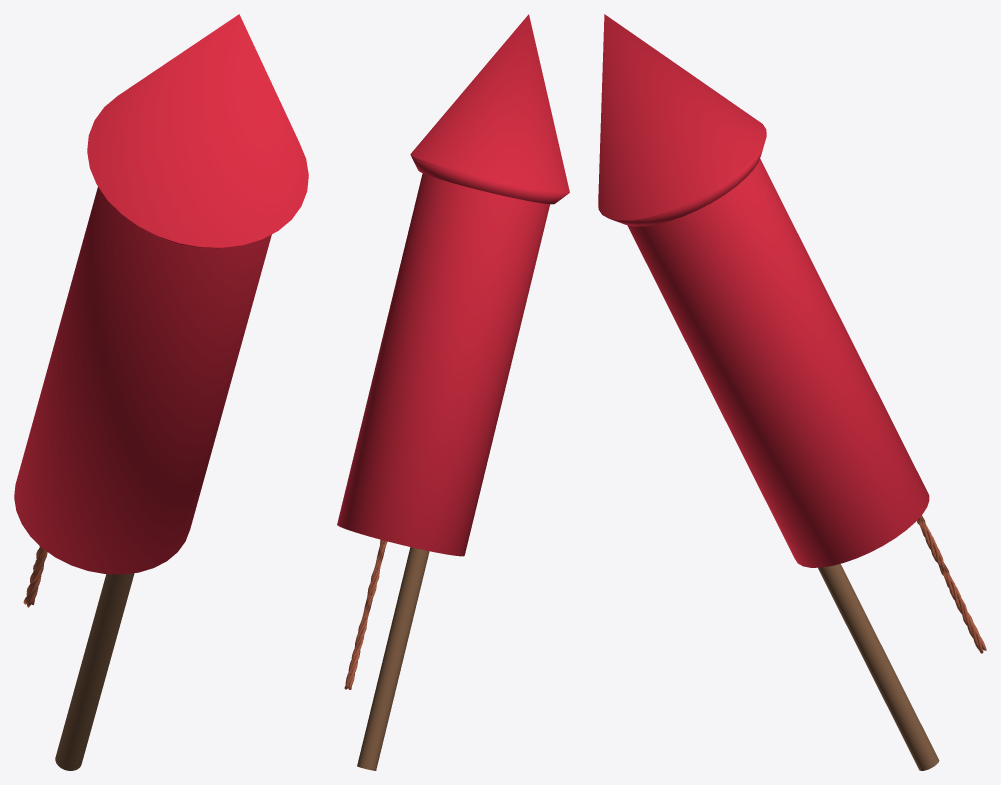
The model's file is Firework.fbx.
3 views of the same model, side by side, from view 1: azimuth 30°, elevation 25°; view 2: azimuth 150°, elevation 25°; view 3: azimuth 270°, elevation 25° (orthographic). The views are drawn at different scales.
Parts seen in each view (by area): view 1: Firework, Firework_Rocket, Firework_Stick, FIrework_Cable; view 2: Firework, Firework_Rocket, Firework_Stick, FIrework_Cable; view 3: Firework, Firework_Rocket, Firework_Stick, FIrework_Cable.
Part boxes in pixels (bbox=[...]): Firework: bbox=[14, 187, 271, 574]; Firework_Rocket: bbox=[87, 14, 308, 248]; Firework_Stick: bbox=[55, 573, 134, 770]; FIrework_Cable: bbox=[23, 546, 47, 607]; Firework: bbox=[337, 173, 549, 556]; Firework_Rocket: bbox=[410, 14, 569, 204]; Firework_Stick: bbox=[357, 547, 429, 770]; FIrework_Cable: bbox=[344, 540, 387, 689]; Firework: bbox=[627, 158, 929, 567]; Firework_Rocket: bbox=[598, 14, 766, 226]; Firework_Stick: bbox=[818, 564, 939, 770]; FIrework_Cable: bbox=[917, 515, 986, 653].
Size of the model in its own units: 249 by 1103 by 522.
